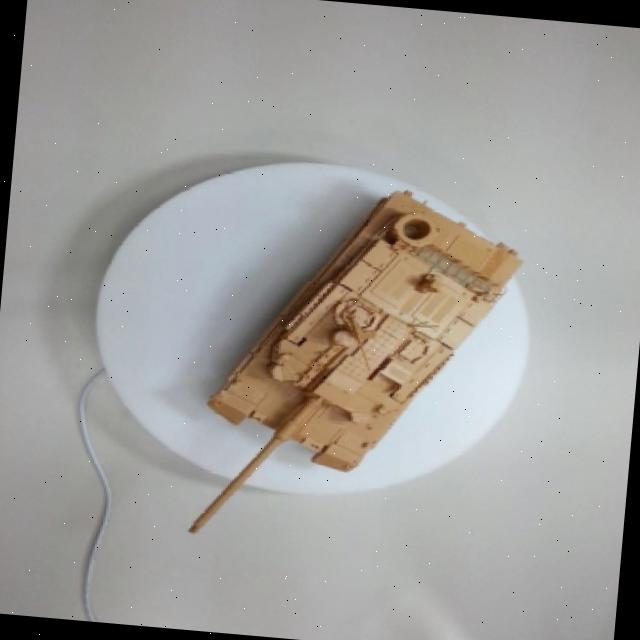korea tank: (180, 124, 532, 574)
